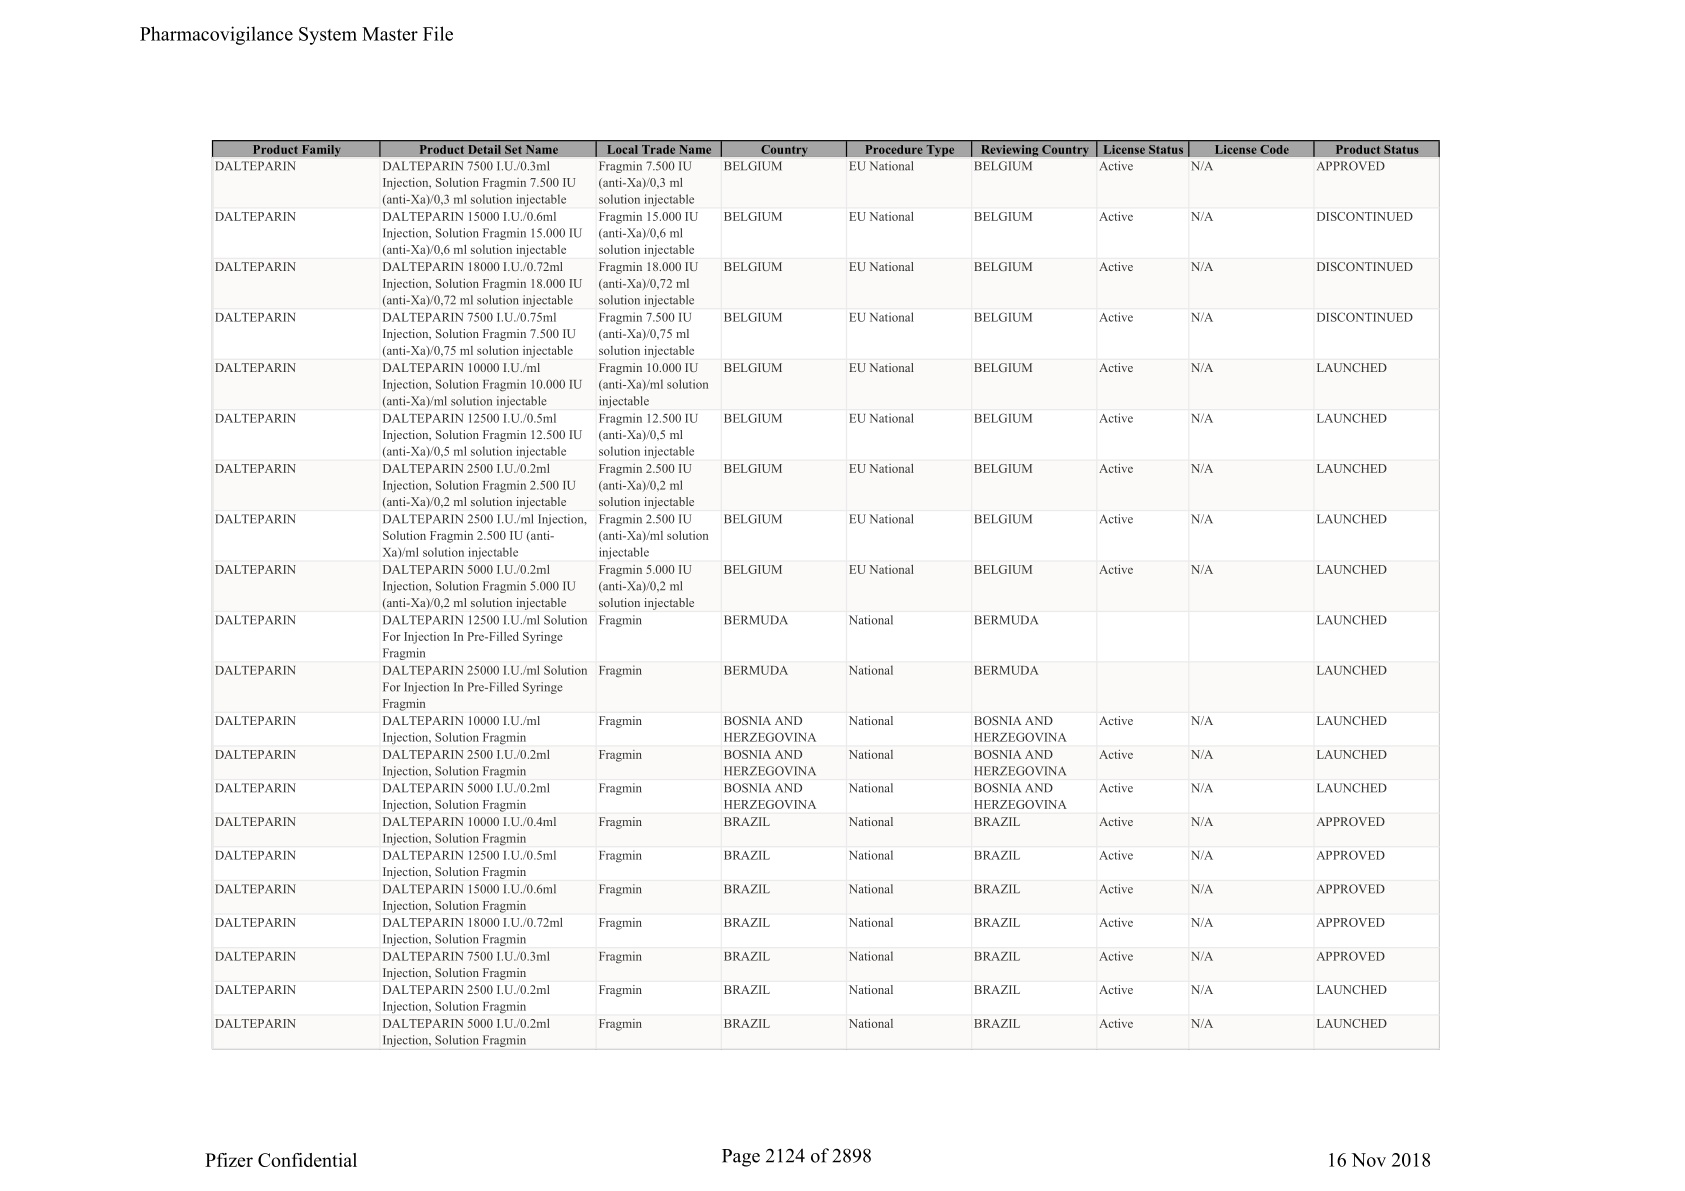full_lined: (211, 139, 1441, 1051)
